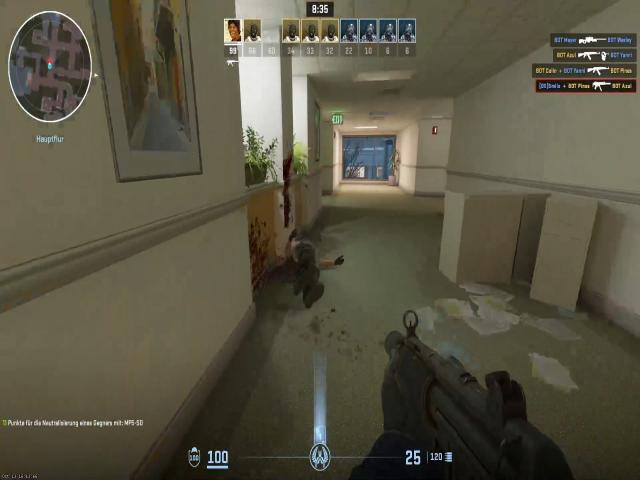Dead: (284, 233, 328, 310)
